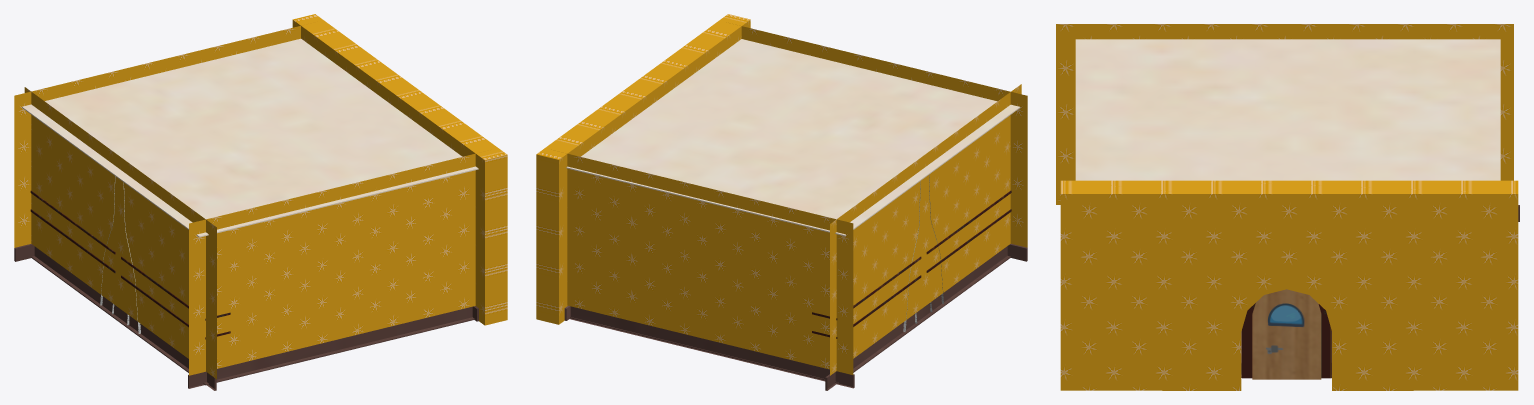
File: Tutorial_HouseLevel.fbx
3 views of the same model, side by side, from view 1: azimuth 30°, elevation 25°; view 2: azimuth 150°, elevation 25°; view 3: azimuth 270°, elevation 25° (orthographic). The views are drawn at different scales.
Visible parts, largest first — view 1: House_Ceiling, polySurface8, polySurface10, polySurface4, polySurface6, polySurface9, House_Floor, polySurface12; view 2: House_Ceiling, polySurface6, polySurface10, polySurface4, polySurface8, polySurface7, polySurface12, House_Floor; view 3: polySurface4, House_Ceiling, polySurface10, House_CloseDoor, House_ArchDoor.
Boxes of the visible parts, x1,y1,x2,y2 form: House_Ceiling: (22, 38, 478, 237); polySurface8: (189, 153, 475, 375); polySurface10: (24, 87, 216, 379); polySurface4: (292, 14, 507, 325); polySurface6: (14, 26, 300, 247); polySurface9: (188, 306, 472, 388); House_Floor: (31, 256, 474, 385); polySurface12: (34, 246, 216, 390); House_Ceiling: (566, 39, 1020, 236); polySurface6: (567, 153, 853, 374); polySurface10: (830, 84, 1021, 375); polySurface4: (536, 14, 750, 324); polySurface8: (741, 26, 1027, 247); polySurface7: (570, 306, 854, 388); polySurface12: (825, 246, 1007, 390); House_Floor: (570, 256, 1010, 383); polySurface4: (1060, 180, 1518, 390); House_Ceiling: (1075, 39, 1500, 180); polySurface10: (1056, 24, 1513, 204); House_CloseDoor: (1252, 289, 1321, 379); House_ArchDoor: (1242, 303, 1331, 378).
Size of the model in its own units: 307 by 160 by 334.
